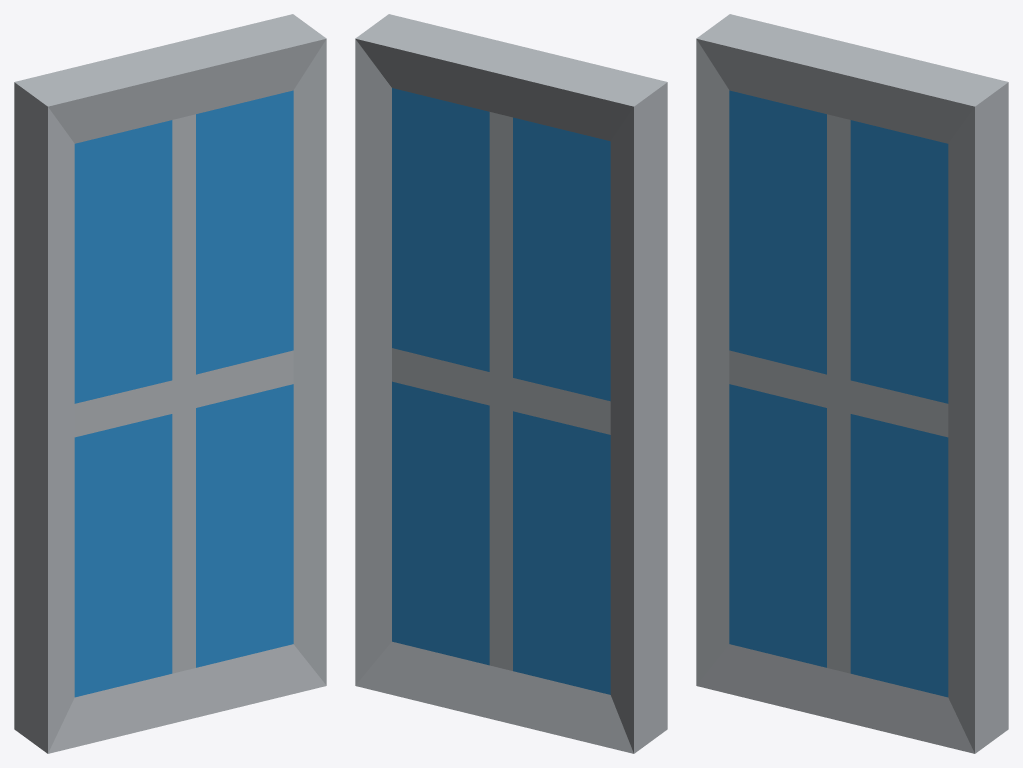
The model's file is window_rectangle.glb.
3 renders of one model, left to right at view 1: azimuth 30°, elevation 25°; view 2: azimuth 150°, elevation 25°; view 3: azimuth 330°, elevation 25°, orthographic.
Parts seen in each view (by area): view 1: window_rectangle; view 2: window_rectangle; view 3: window_rectangle.
Boxes of the visible parts, bbox=[...] form: window_rectangle: bbox=[14, 14, 326, 753]; window_rectangle: bbox=[355, 14, 667, 753]; window_rectangle: bbox=[696, 14, 1008, 753].
Bounding box in the file's own units: 0.4295 × 0.9526 × 0.0899.
Materials: 2 (1 with a texture image).
